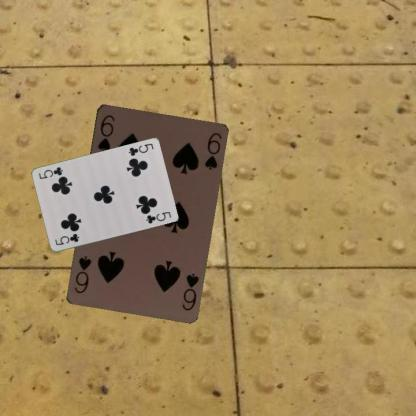5c: (52, 231, 80, 247), (126, 141, 154, 157)
6s: (94, 112, 116, 153), (179, 270, 200, 311)
